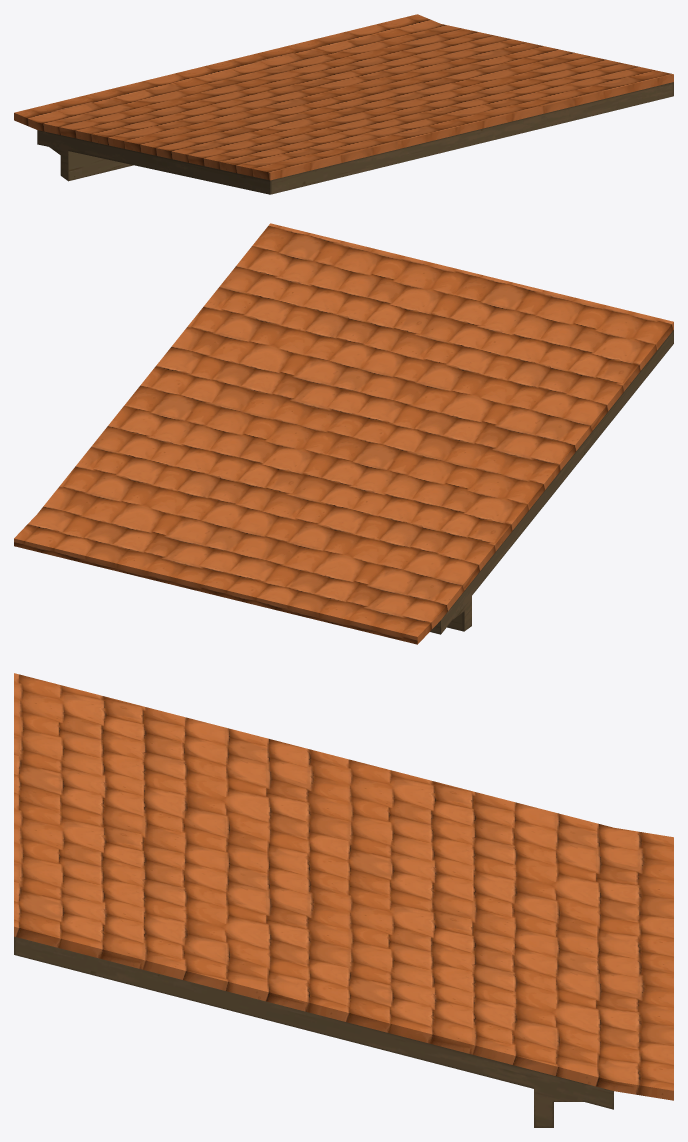
Rendered from SM_building_roof_06.glb.
The picture shows the model from 3 angles, top to bottom: view 1: azimuth 30°, elevation 25°; view 2: azimuth 150°, elevation 25°; view 3: azimuth 270°, elevation 25°; orthographic projection. The views are drawn at different scales.
Visible parts, largest first — view 1: SM_building_roof_06; view 2: SM_building_roof_06; view 3: SM_building_roof_06.
Boxes of the visible parts, x1=… form: SM_building_roof_06: x1=14, y1=14, x2=673, y2=194; SM_building_roof_06: x1=14, y1=223, x2=673, y2=644; SM_building_roof_06: x1=14, y1=673, x2=673, y2=1127.
Size of the model in its own units: 6 by 2.22 by 6.6.
3 materials, 3 textured.
